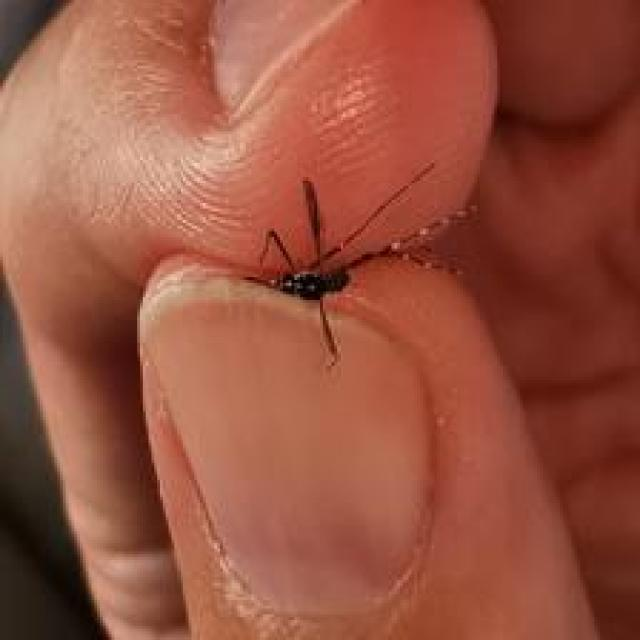Aedes albopictus: (240, 159, 477, 367)
